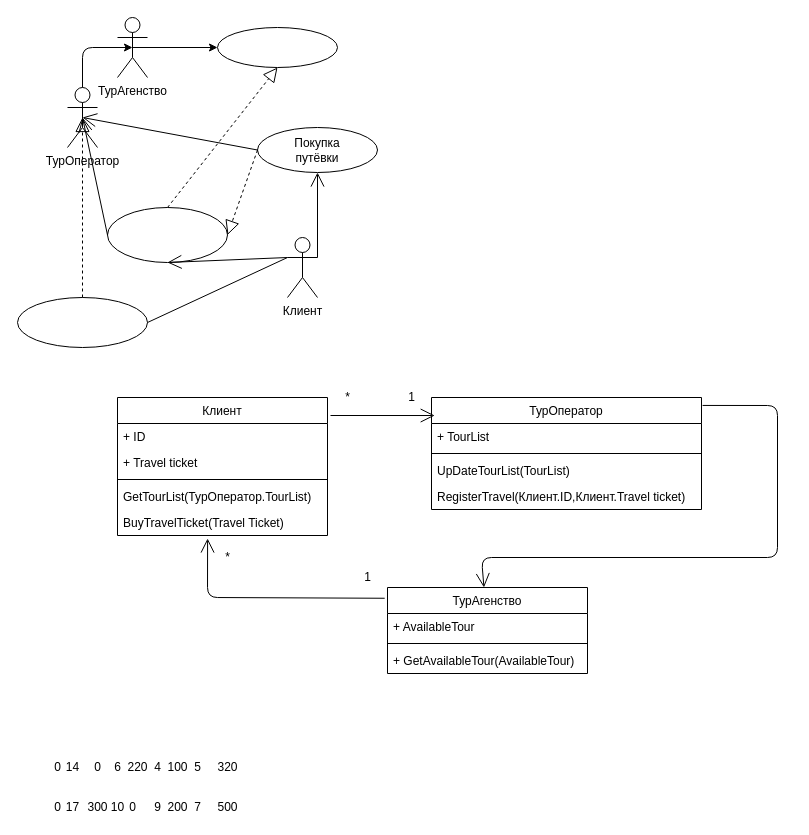
This 809x835 diagram has some shape labels left out. The shapes that lost their labels are listed below. From the top down, each one's centre as x and y in pixels, then its label:
At point (277, 47): "Проверка путёвок".
At point (167, 234): "Заказать путёвку".
At point (82, 322): "Ознакомиться со списком туров".
